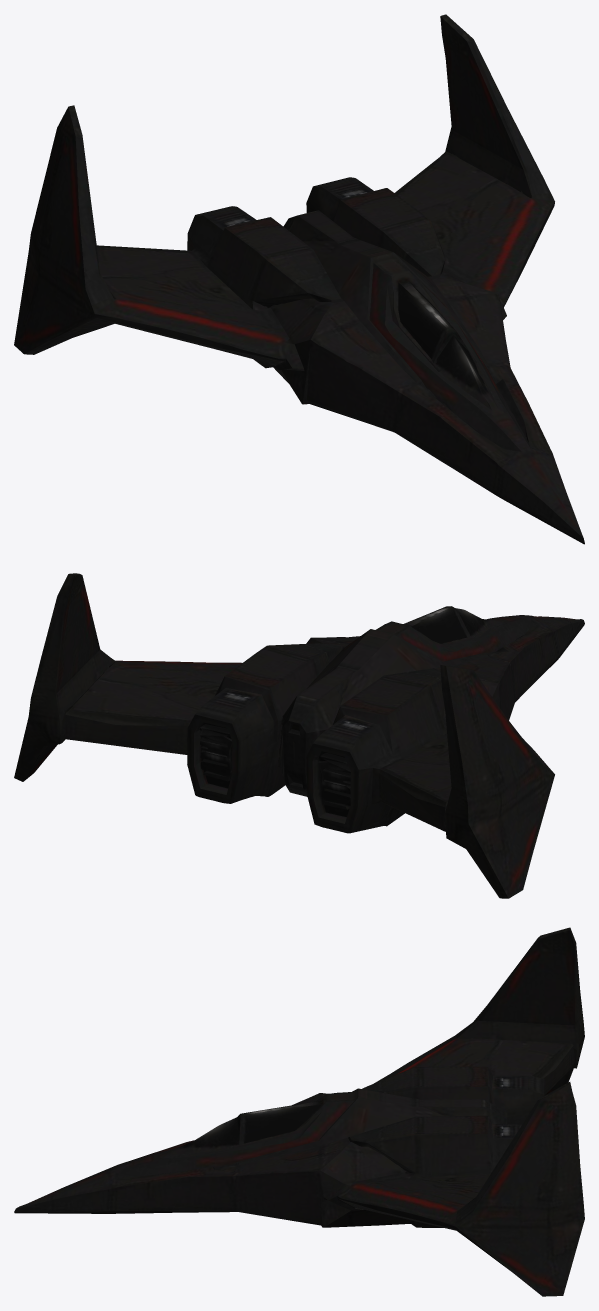
File: nave_33.obj
3 renders of one model, top to bottom at view 1: azimuth 30°, elevation 25°; view 2: azimuth 150°, elevation 25°; view 3: azimuth 270°, elevation 25°, orthographic. The views are drawn at different scales.
Parts seen in each view (by area): view 1: geometry_0; view 2: geometry_0; view 3: geometry_0.
Part boxes in pixels (x1,y1,x2,y2): geometry_0: (14,14,584,544); geometry_0: (14,573,584,898); geometry_0: (14,927,584,1296).
Size of the model in its own units: 6 by 2.81 by 7.
1 material, 1 textured.
